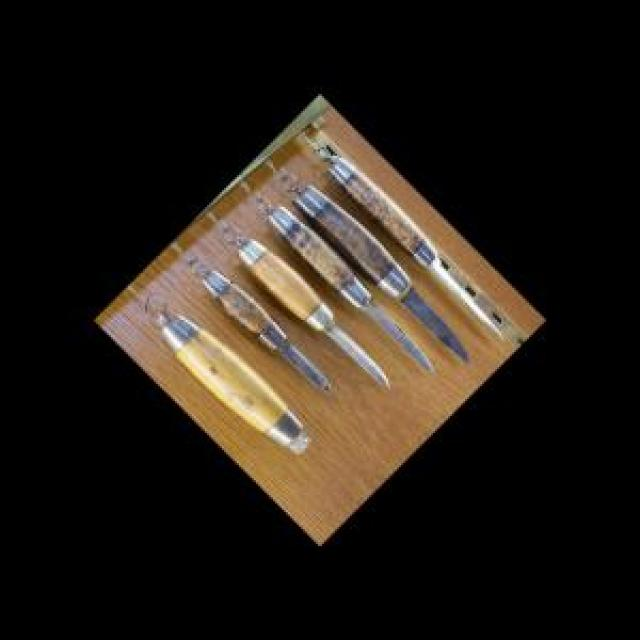knife: (330, 149, 508, 338), (258, 194, 437, 375), (284, 179, 471, 352), (220, 226, 389, 392), (188, 256, 335, 399)
